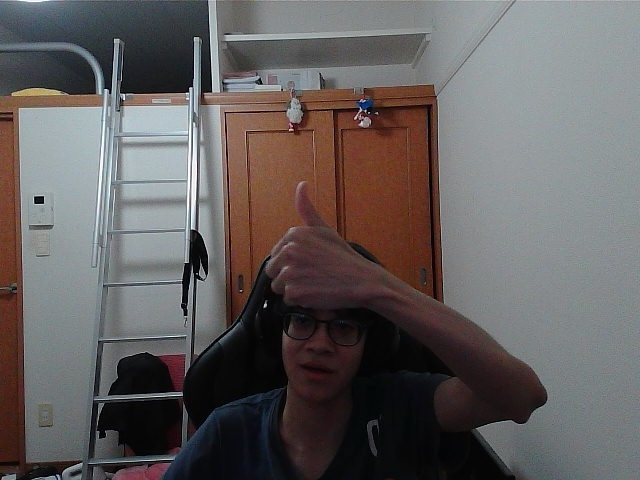thumb_up: (273, 189, 363, 302)
